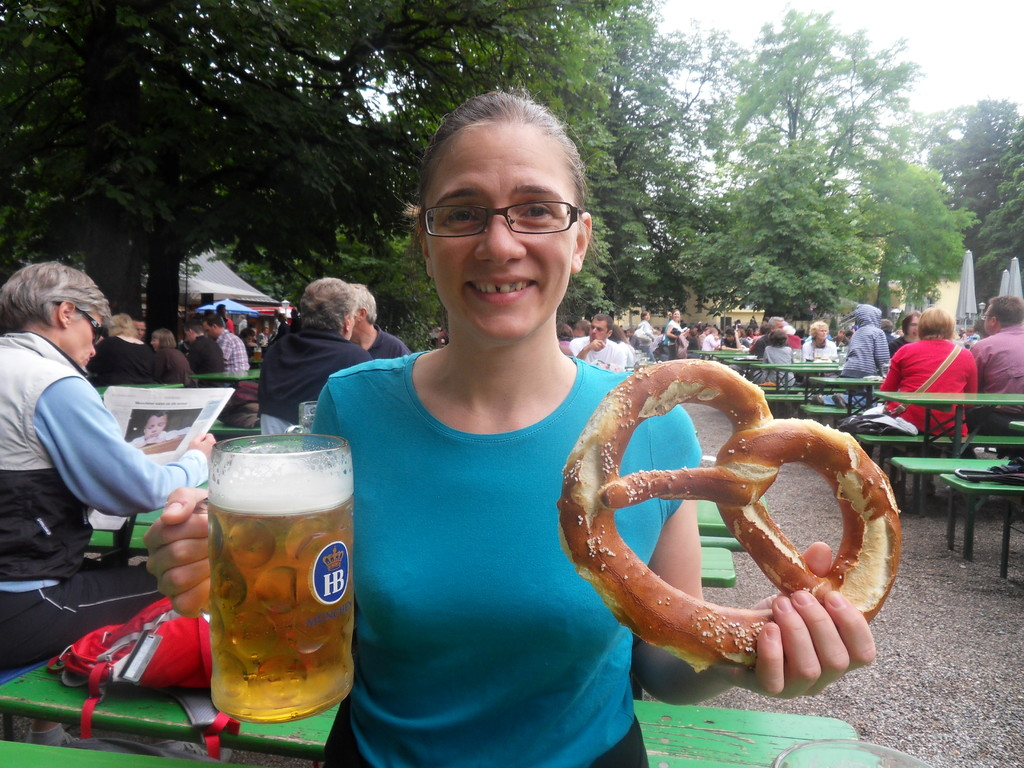Beer: (203, 462, 355, 719)
